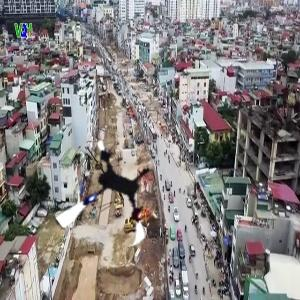drone: (48, 138, 168, 258)
